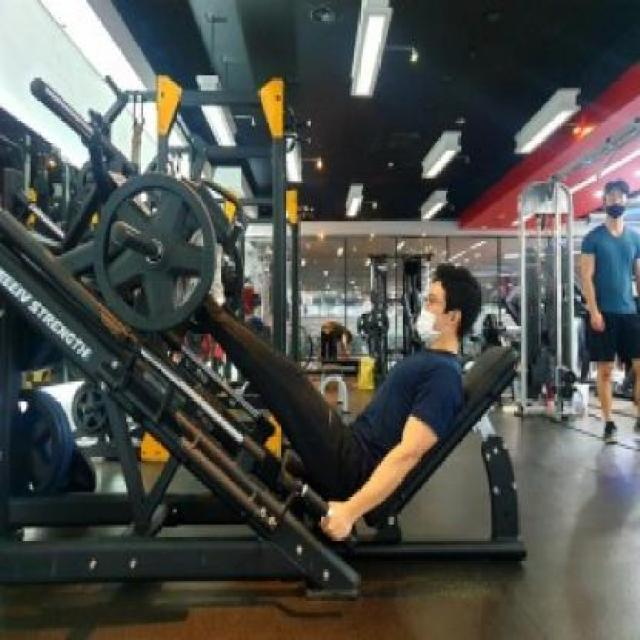leg press: (0, 49, 535, 640)
